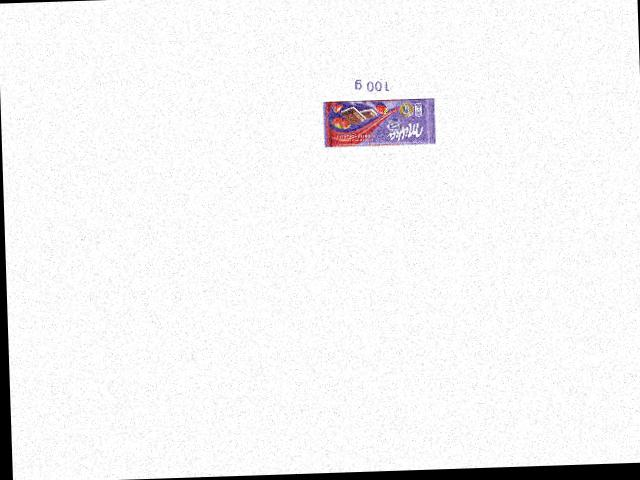chocolate: (321, 92, 435, 147)
